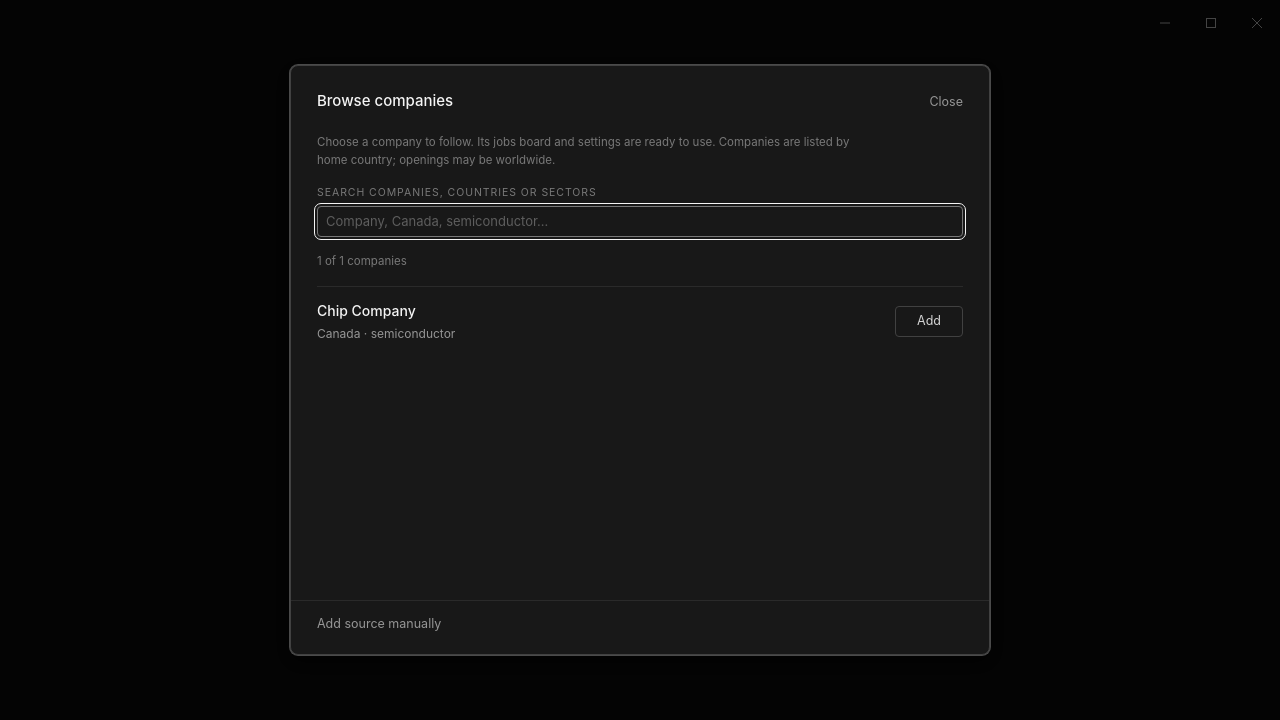
Test: adds a catalog company with all curated settings, without probing or reusing a deleted starter ID
Click the button with aria-label "Add Chip Company".
click(929, 322)  # box [895, 306, 963, 337]
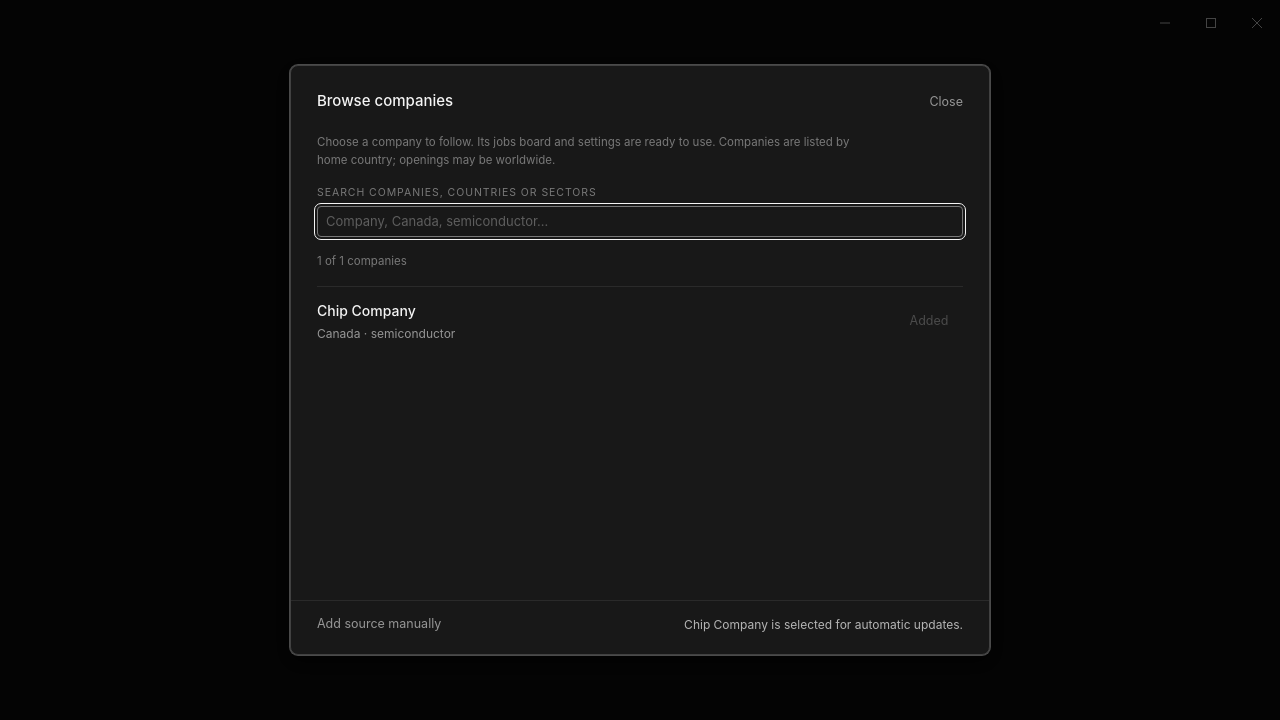
Check: the button named "Add Chip Company" is disabled, box [895, 312, 963, 331]
